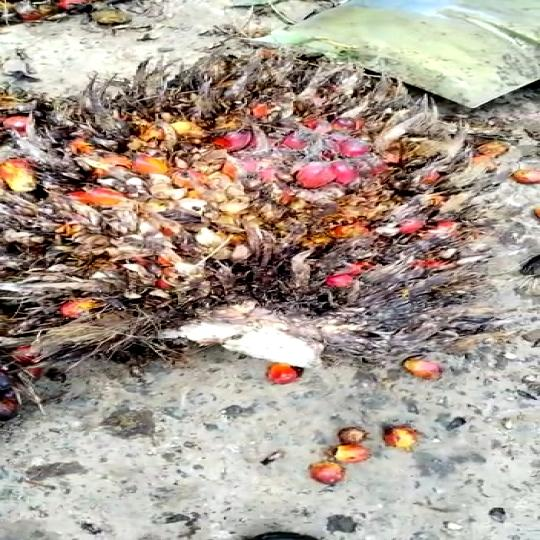terlalu masak: (0, 60, 502, 395)
